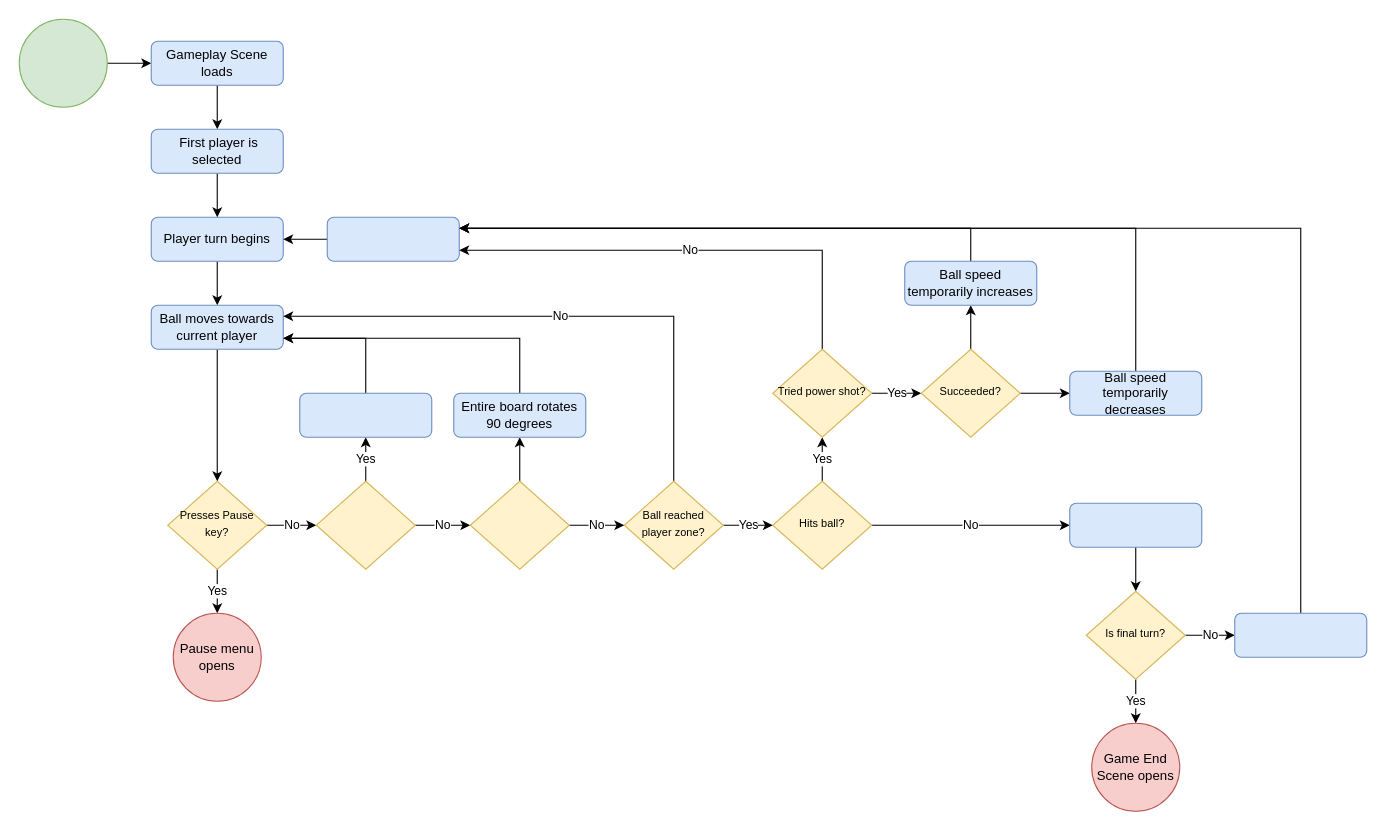
Some shapes in this 1386 by 831 pixel diagram are drawn without their labels. The shapes that lost their labels are listed below. From the top down, each one's box as (x1, y1, x2, y2) in pixels, then its label:
(18, 18, 107, 107): Game Play Scene opened
(326, 216, 459, 261): Becomes opposing player's turn
(299, 392, 432, 437): Player paddle moves
(315, 480, 415, 569): Presses move key?
(469, 480, 569, 569): Presses Rotate key?
(1069, 502, 1202, 547): Opposing player points update
(1234, 612, 1367, 657): New ball is spawned
